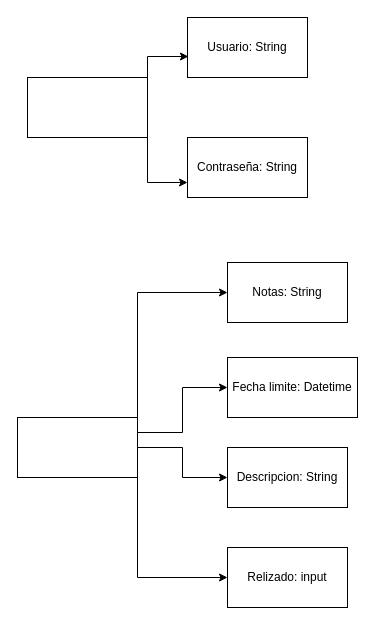
Some shapes in this 375 by 625 pixel diagram are drawn without their labels. Each missing label, with the centre of its shape:
Inicio de Sesion: the point at 87,107
Tareas: the point at 77,447
